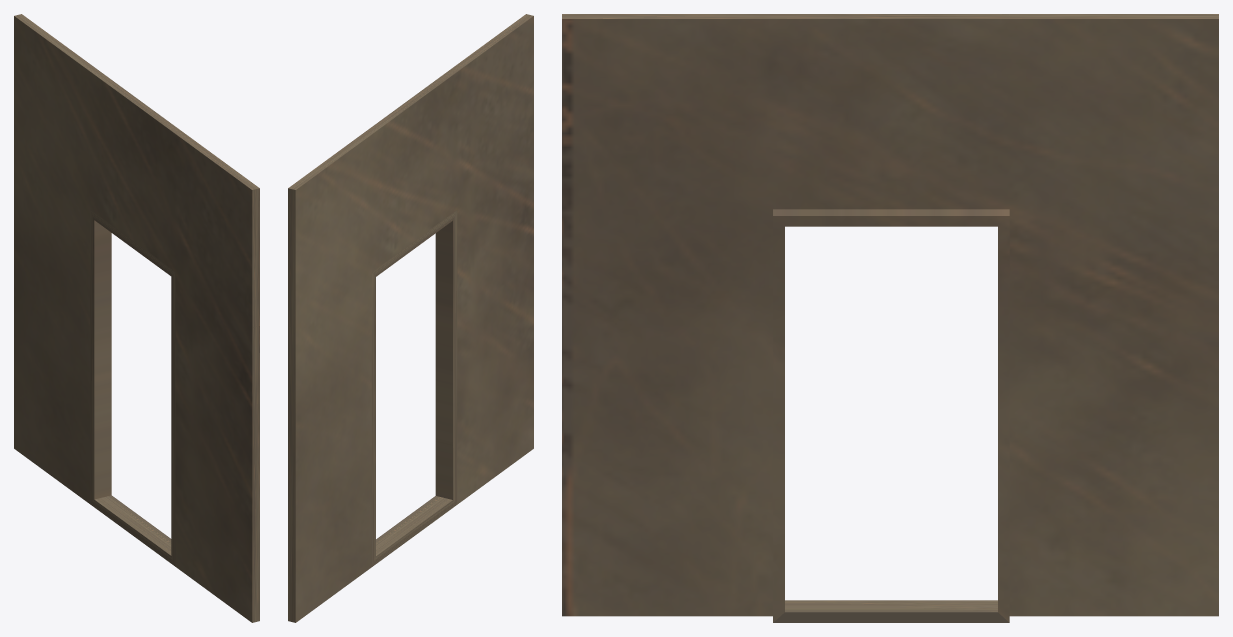
Rendered from wall_door_smooth.glb.
The picture shows the model from 3 angles, left to right: view 1: azimuth 30°, elevation 25°; view 2: azimuth 150°, elevation 25°; view 3: azimuth 270°, elevation 25°; orthographic projection. The views are drawn at different scales.
Visible parts, largest first — view 1: Cube.002; view 2: Cube.002; view 3: Cube.002.
Part boxes in pixels (<box>): Cube.002: <box>14,14,259,622</box>; Cube.002: <box>288,14,533,622</box>; Cube.002: <box>562,14,1218,622</box>.
Bounding box in the file's own units: 0.3051 × 7.24 × 7.21.
Materials: 1 (1 with a texture image).
